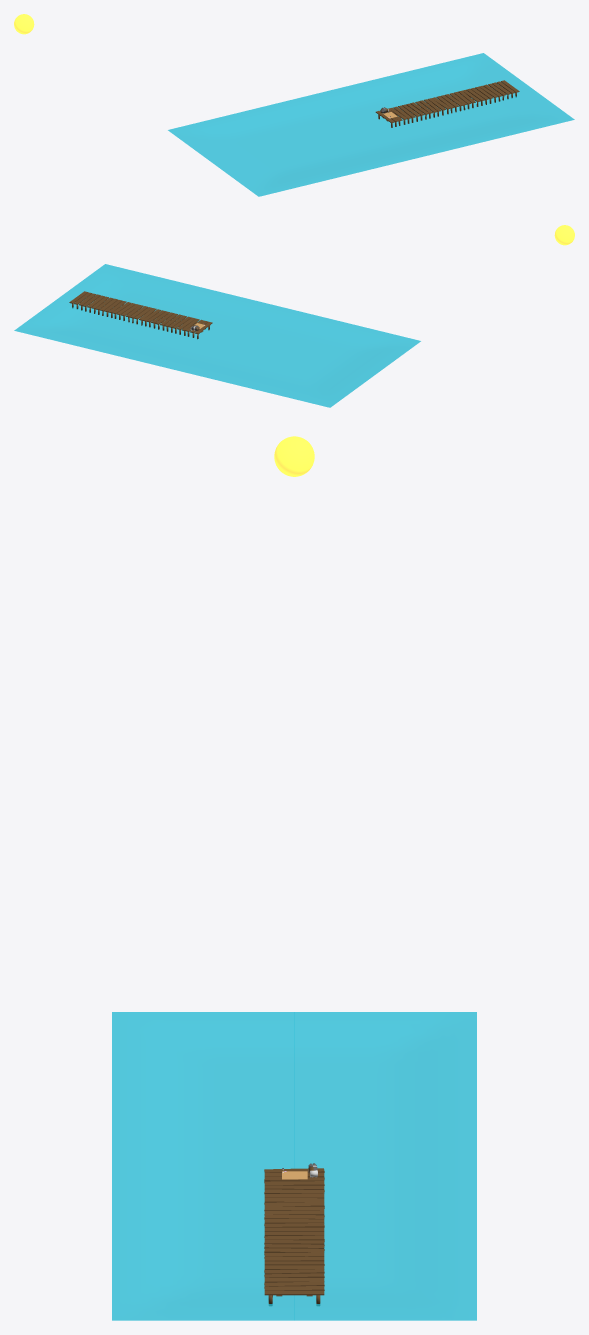
Rendered from lake-chair.glb.
3 renders of one model, top to bottom at view 1: azimuth 30°, elevation 25°; view 2: azimuth 150°, elevation 25°; view 3: azimuth 270°, elevation 25°, orthographic. The views are drawn at different scales.
Visible parts, largest first — view 1: 湖面, Deck_Lake, Moon; view 2: 湖面, Deck_Lake, Moon; view 3: 湖面, Deck_Lake, Moon.
Boxes of the visible parts, box(x1,y1,x2,y2) form: 湖面: box(168, 53, 574, 196); Deck_Lake: box(375, 80, 519, 127); Moon: box(14, 14, 34, 34); 湖面: box(14, 264, 420, 407); Deck_Lake: box(69, 291, 212, 339); Moon: box(554, 225, 574, 245); 湖面: box(112, 1012, 476, 1320); Deck_Lake: box(264, 1168, 324, 1305); Moon: box(274, 436, 314, 476).
Size of the model in its own units: 58.52 by 21.39 by 18.
